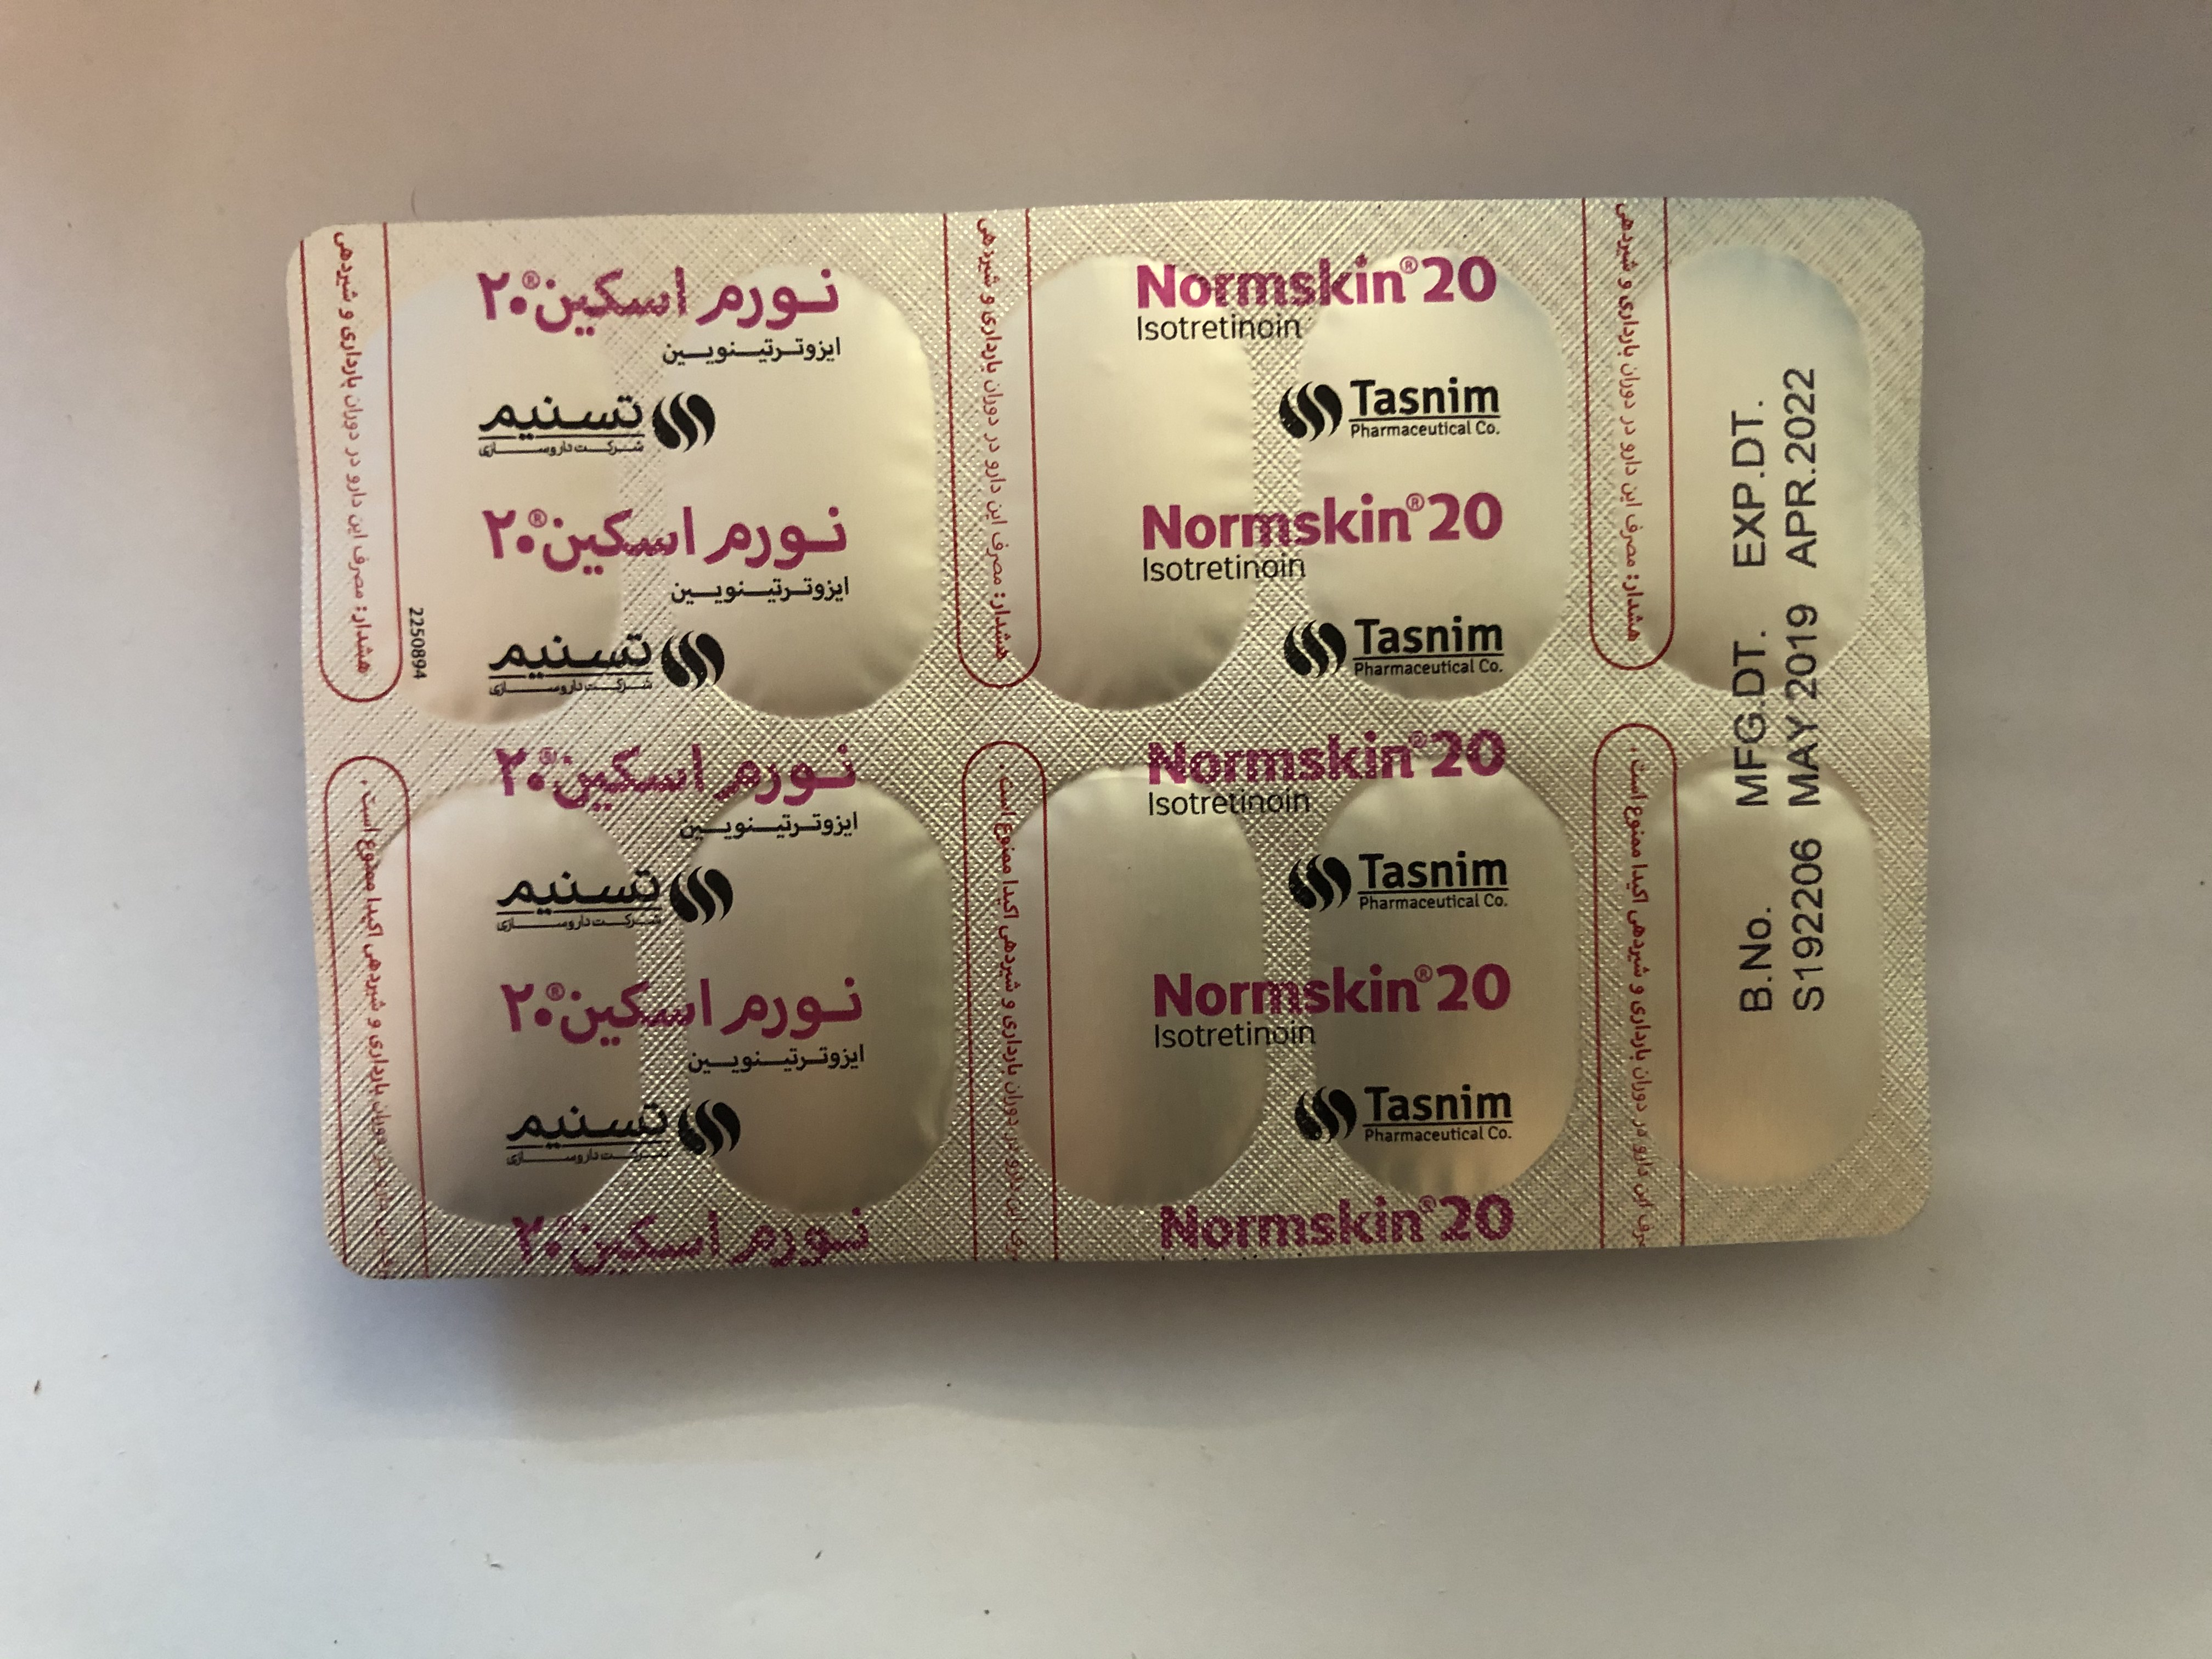Medicine name: (1115, 477, 1536, 559)
